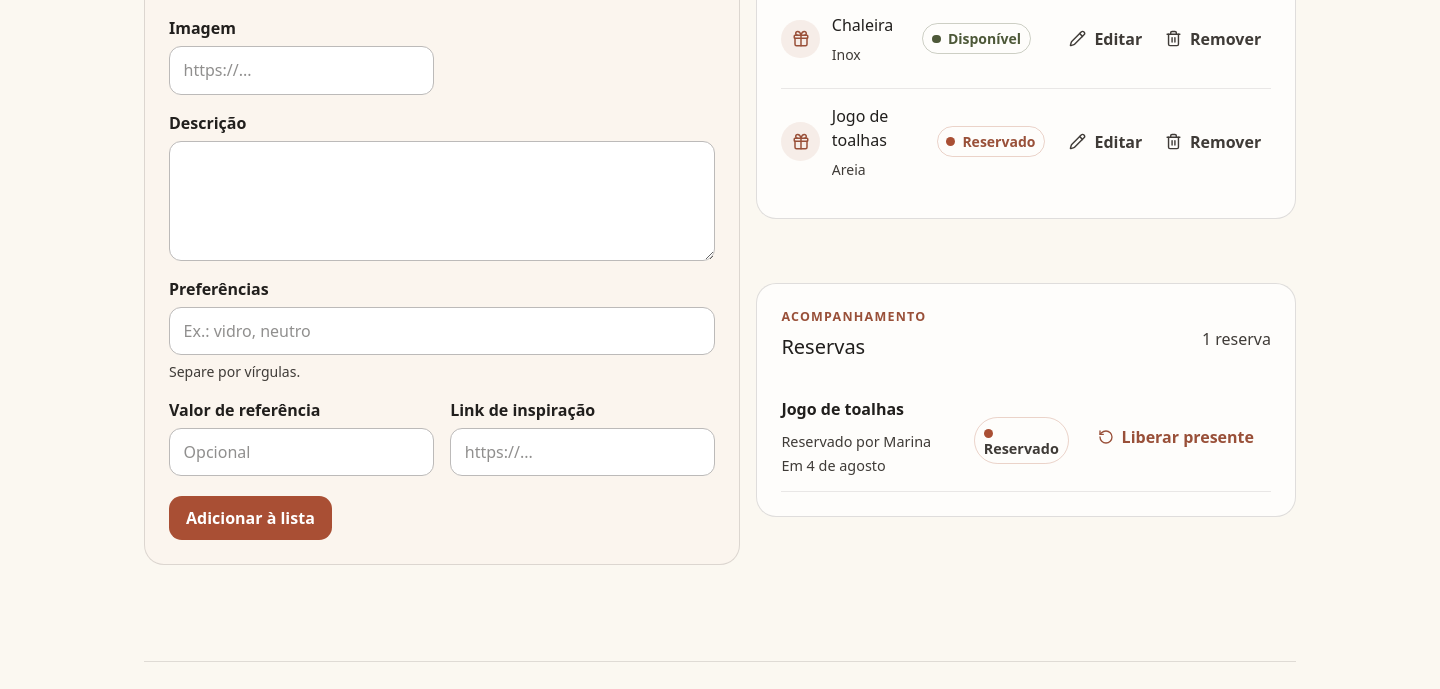
Scenario: AdminPage › mostra a data e libera a reserva após confirmação
(page scrolled)
Expected: the text "Reservado por Marina" is shown, [781, 431, 931, 452]
Expected: the text "Em 4 de agosto" is shown, [781, 456, 886, 475]
Click the button with aria-label "Liberar Jogo de toalhas" at (1176, 437), box [1081, 416, 1271, 458]
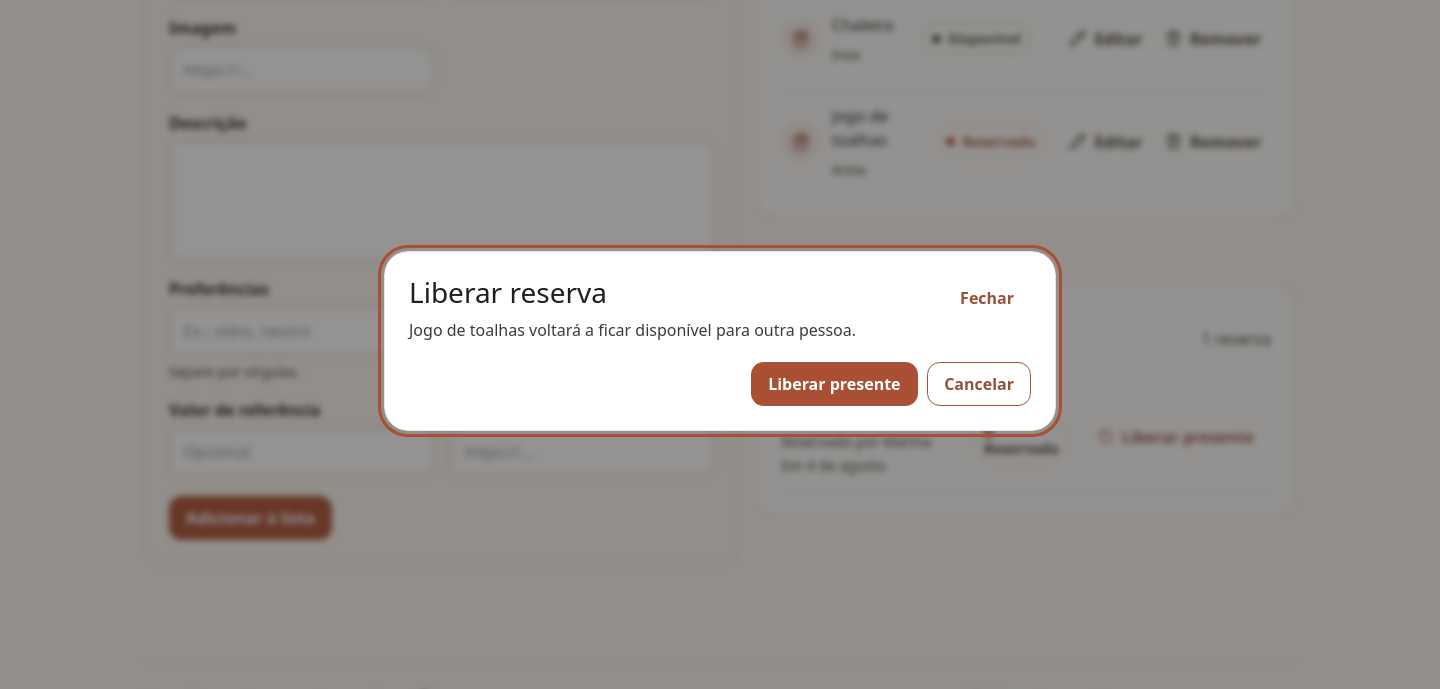
Expected: the heading "Liberar reserva" is shown, [409, 273, 607, 311]
Click the button "Liberar presente" at (834, 384), box [751, 362, 918, 406]
(page scrolled)
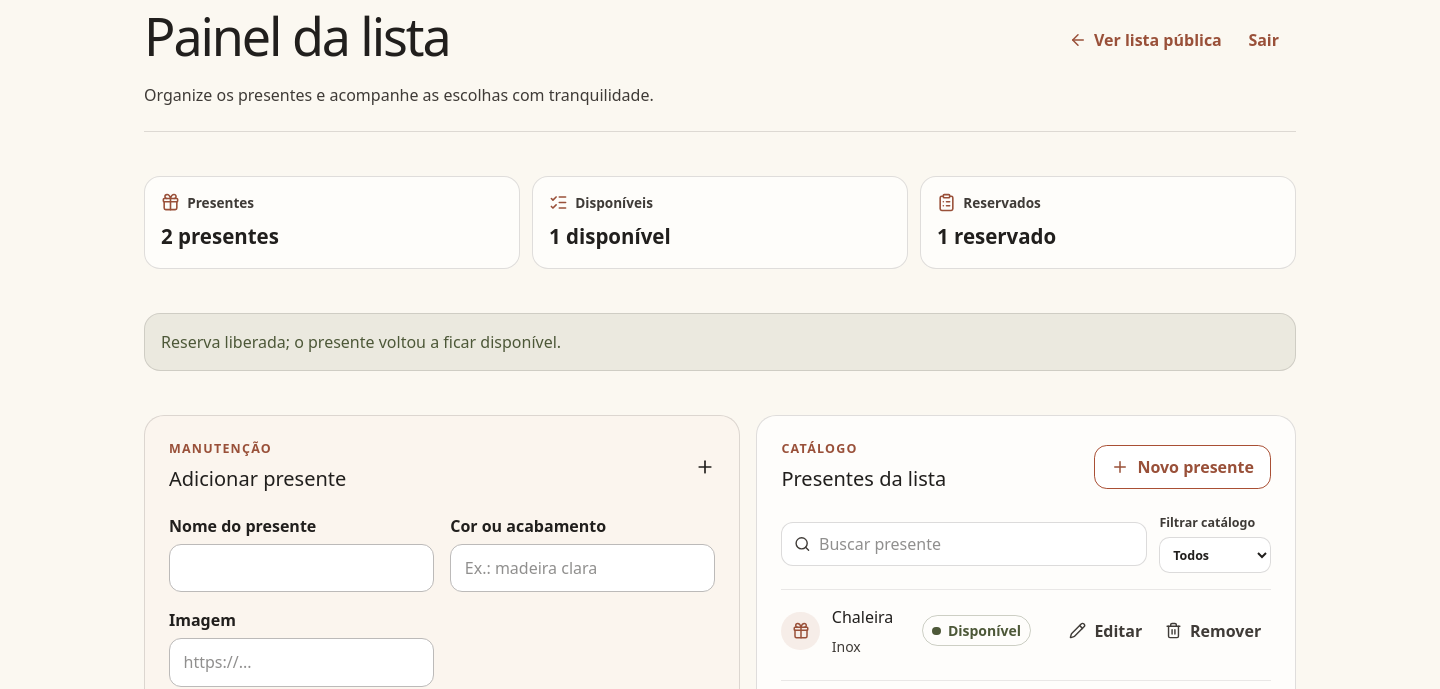
Expected: the message reads "Reserva liberada; o presente voltou a ficar disponível.", [161, 331, 561, 353]
